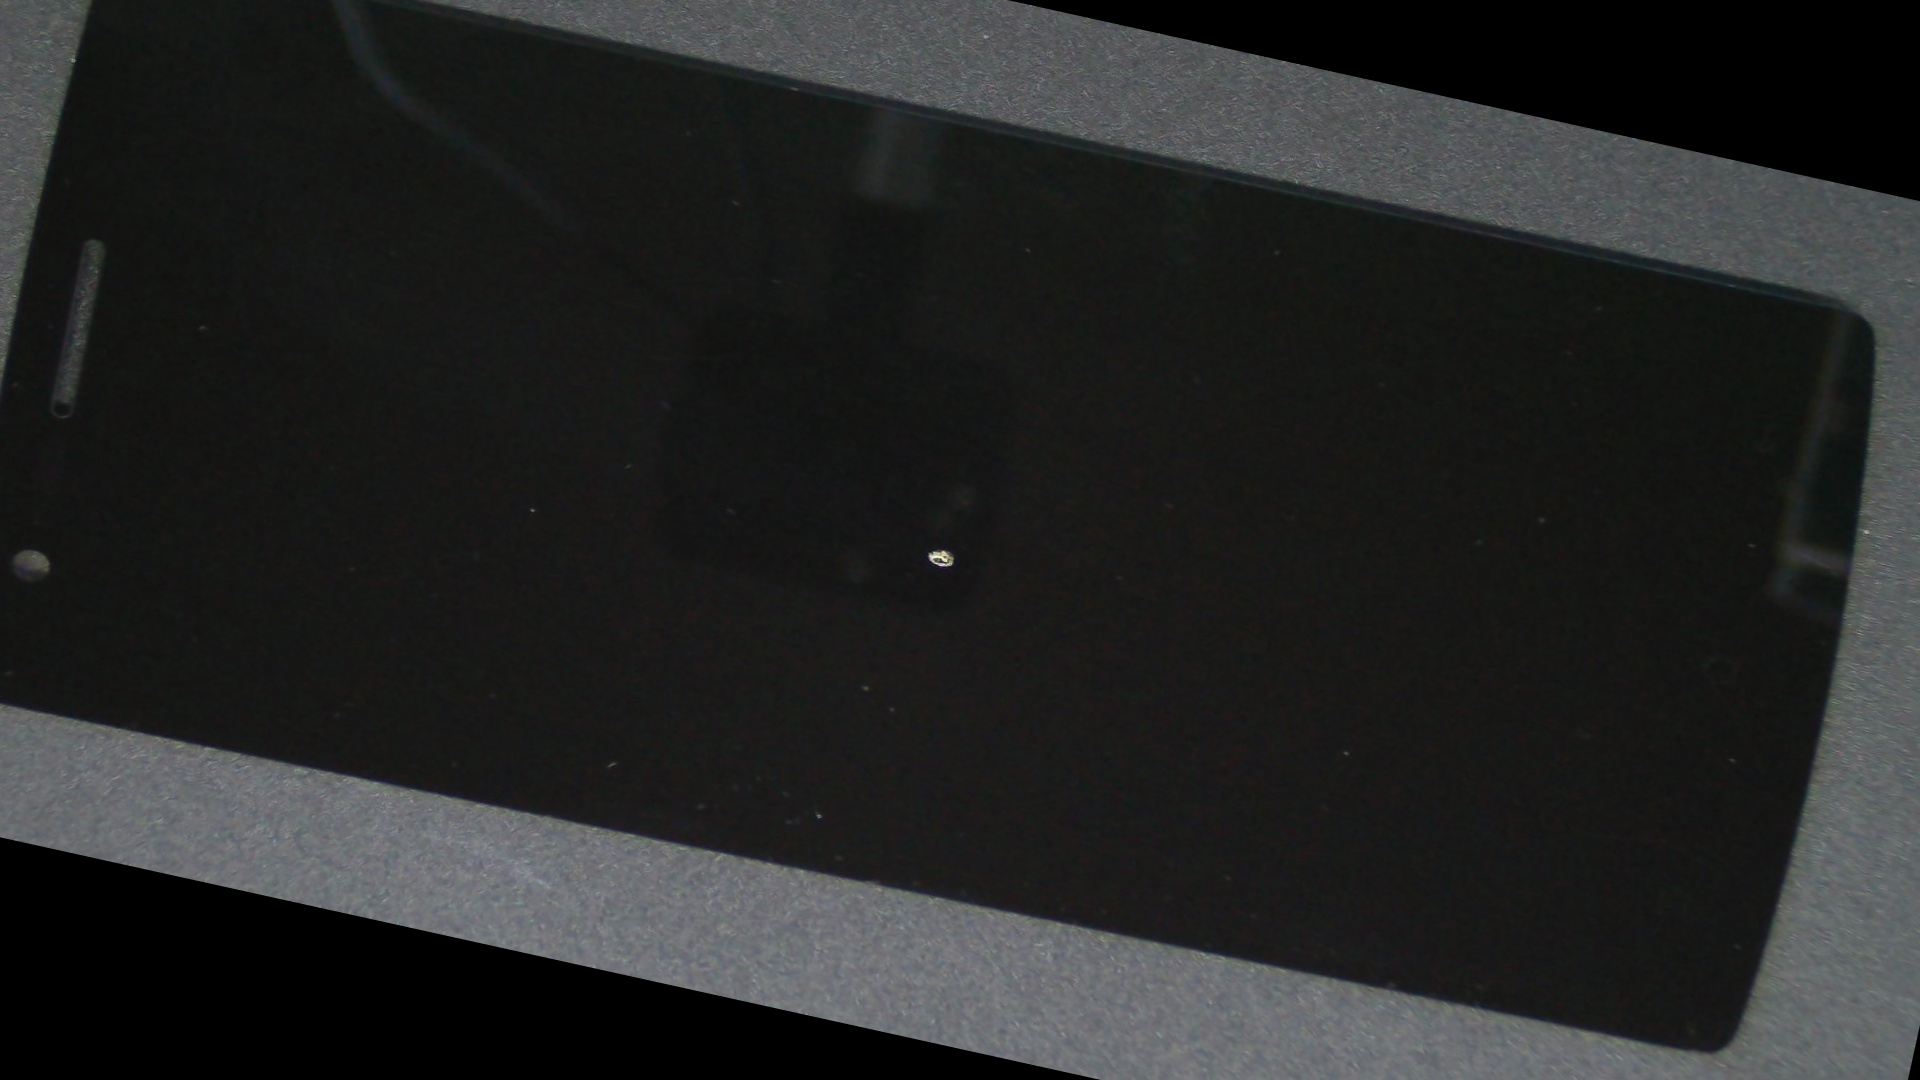oil: (319, 156, 1569, 943)
